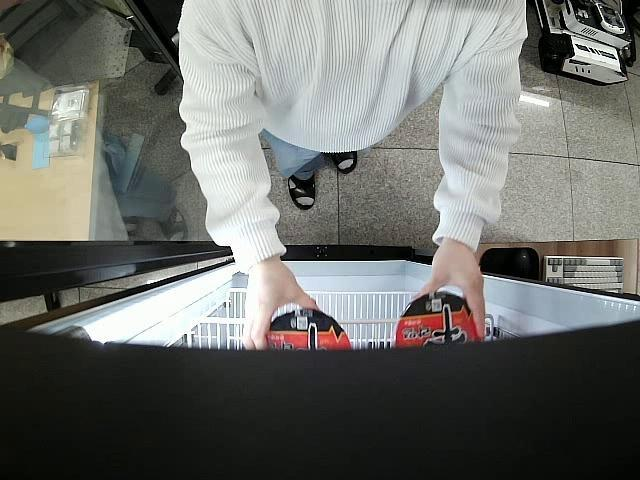01_ShinRamen_L: (394, 294, 484, 350), (262, 310, 354, 348)
